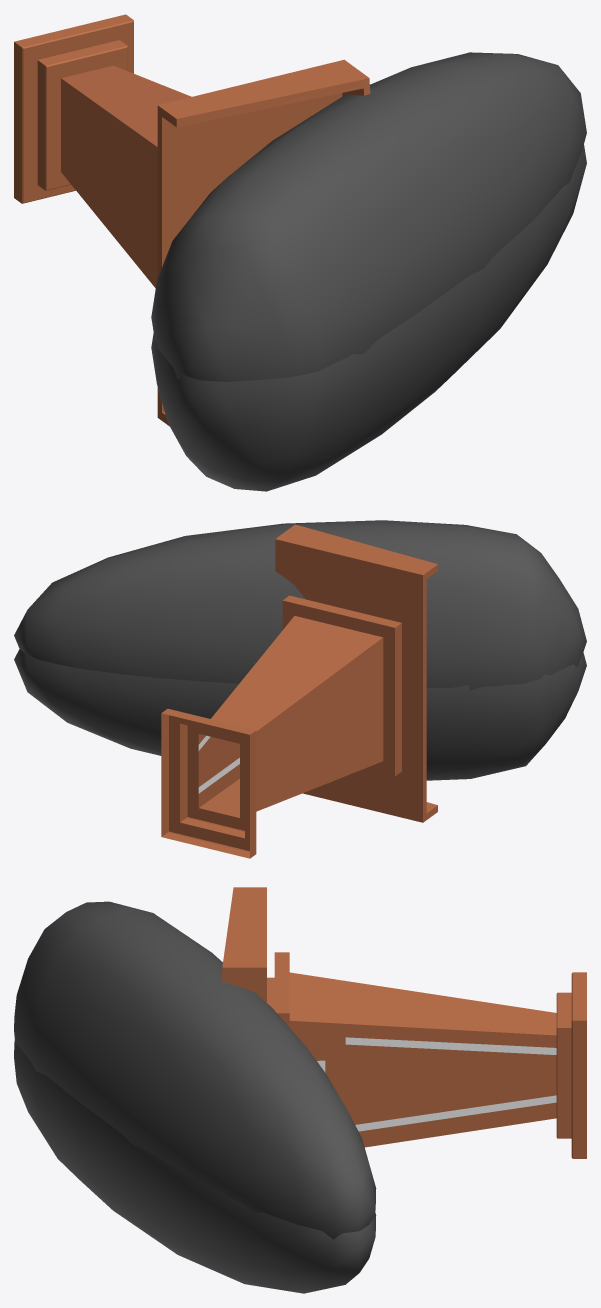
The model's file is Open3d (1).fbx.
3 views of the same model, one above another, from view 1: azimuth 30°, elevation 25°; view 2: azimuth 150°, elevation 25°; view 3: azimuth 270°, elevation 25° (orthographic). The views are drawn at different scales.
Visible parts, largest first — view 1: GeoSphere01, GeoSphere02, Box06, Box05; view 2: GeoSphere01, Box06, GeoSphere02, Box05; view 3: GeoSphere01, Box06, GeoSphere02, Box05, 白鞭子.
Part boxes in pixels (left/top/right/bottom): GeoSphere01: left=151, top=52, right=586, bottom=381; GeoSphere02: left=151, top=145, right=586, bottom=491; Box06: left=14, top=14, right=191, bottom=287; Box05: left=157, top=59, right=370, bottom=426; GeoSphere01: left=14, top=520, right=586, bottom=690; Box06: left=161, top=595, right=401, bottom=858; GeoSphere02: left=14, top=649, right=586, bottom=780; Box05: left=275, top=524, right=437, bottom=822; GeoSphere01: left=14, top=901, right=376, bottom=1239; Box06: left=267, top=952, right=586, bottom=1158; GeoSphere02: left=14, top=1039, right=376, bottom=1293; Box05: left=221, top=887, right=266, bottom=1003; 白鞭子: left=317, top=1037, right=556, bottom=1131.
Bounding box in the file's own units: 58.15 × 32.45 × 59.2.
